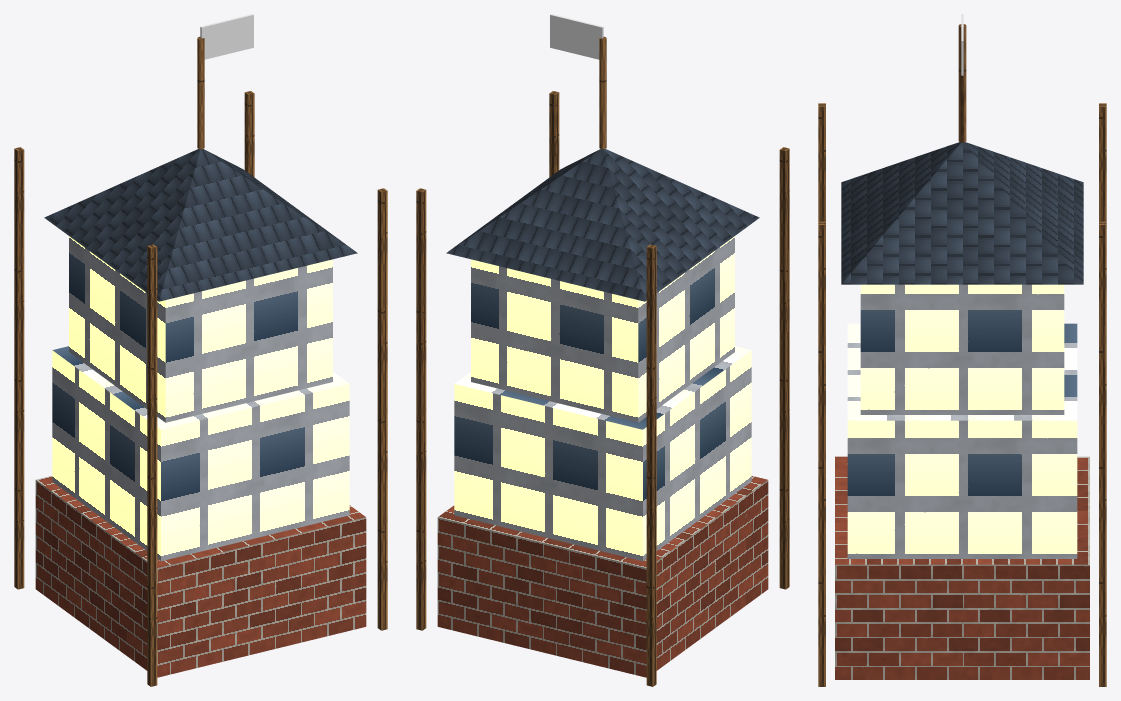
Rendered from tower.glb.
3 views of the same model, side by side, from view 1: azimuth 30°, elevation 25°; view 2: azimuth 150°, elevation 25°; view 3: azimuth 270°, elevation 25° (orthographic). The views are drawn at different scales.
Visible parts, largest first — view 1: stage_02, stage_01, stage_03, stage_04, scaffold, flag, flagpole; view 2: stage_02, stage_01, stage_03, stage_04, scaffold, flag, flagpole; view 3: stage_02, stage_01, stage_04, stage_03, scaffold, flagpole.
Part boxes in pixels (x1,y1,x2,y2): stage_02: (52, 346, 349, 561); stage_01: (35, 476, 366, 677); stage_03: (69, 236, 332, 422); stage_04: (44, 149, 357, 301); scaffold: (14, 91, 387, 686); flag: (200, 14, 253, 59); flagpole: (197, 36, 204, 149); stage_02: (454, 346, 751, 561); stage_01: (437, 476, 768, 677); stage_03: (471, 236, 734, 422); stage_04: (446, 149, 759, 301); scaffold: (416, 91, 789, 686); flag: (550, 14, 603, 59); flagpole: (599, 36, 606, 149); stage_02: (847, 323, 1077, 558); stage_01: (835, 456, 1089, 679); stage_04: (841, 142, 1083, 284); stage_03: (860, 284, 1064, 414); scaffold: (818, 103, 1106, 686); flagpole: (958, 24, 966, 142).
Size of the model in its own units: 2.26 by 5.3 by 2.26.
Materials: 5 (4 with a texture image).
